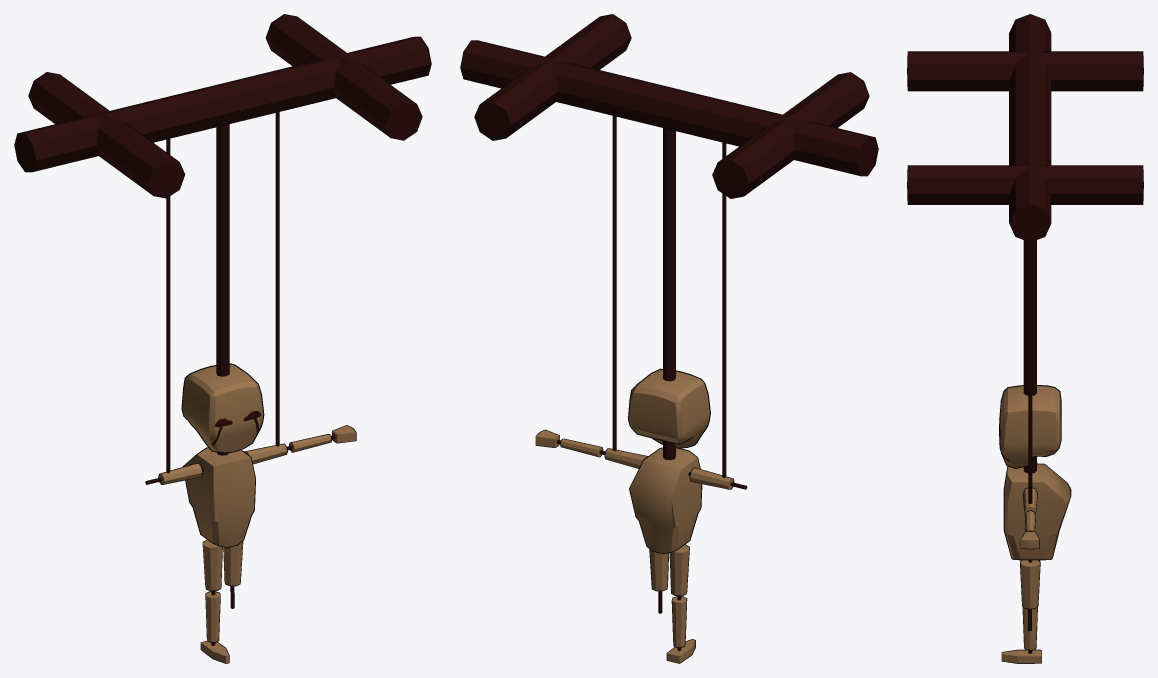
Rendered from marionette.fbx.
3 renders of one model, left to right at view 1: azimuth 30°, elevation 25°; view 2: azimuth 150°, elevation 25°; view 3: azimuth 270°, elevation 25°, orthographic.
Parts seen in each view (by area): view 1: marionette, marionette_1; view 2: marionette, marionette_1; view 3: marionette, marionette_1.
Boxes of the visible parts, left/top/right/bottom form: marionette: left=15, top=14, right=430, bottom=663; marionette_1: left=14, top=14, right=431, bottom=663; marionette: left=461, top=14, right=877, bottom=663; marionette_1: left=460, top=14, right=878, bottom=663; marionette: left=908, top=14, right=1142, bottom=663; marionette_1: left=907, top=14, right=1143, bottom=663.
Bounding box in the file's own units: 10 × 13.62 × 5.25.
